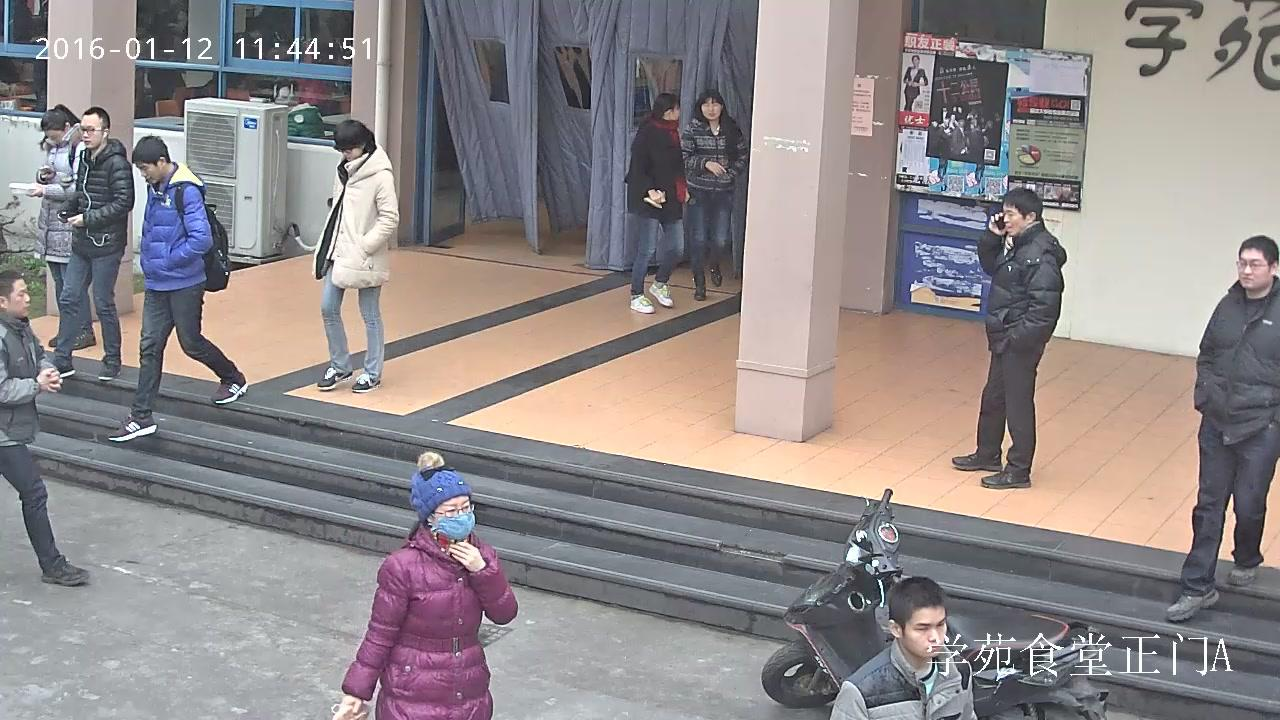person: (330, 450, 517, 720), (1165, 235, 1280, 620), (106, 135, 247, 442), (952, 188, 1066, 488), (0, 269, 91, 585), (47, 106, 135, 378), (313, 119, 400, 392), (7, 104, 95, 349), (827, 577, 977, 720), (679, 89, 745, 300), (625, 92, 687, 314), (286, 95, 323, 136), (903, 55, 927, 111)
